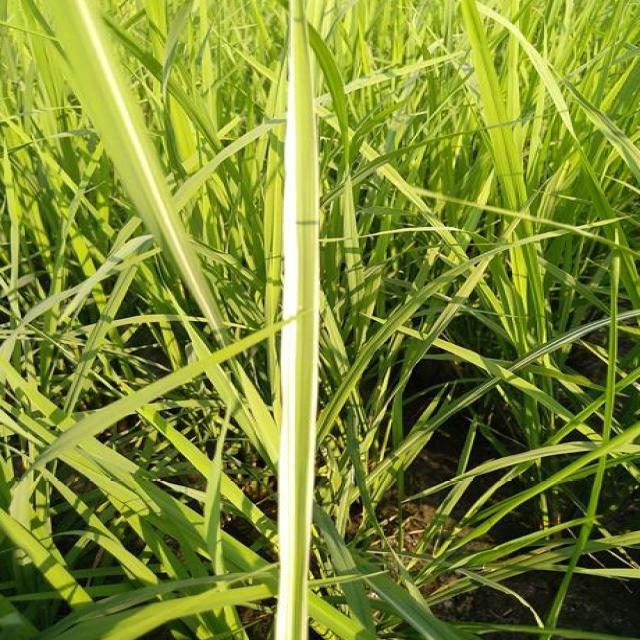Leaf Blight: (274, 0, 316, 640)
